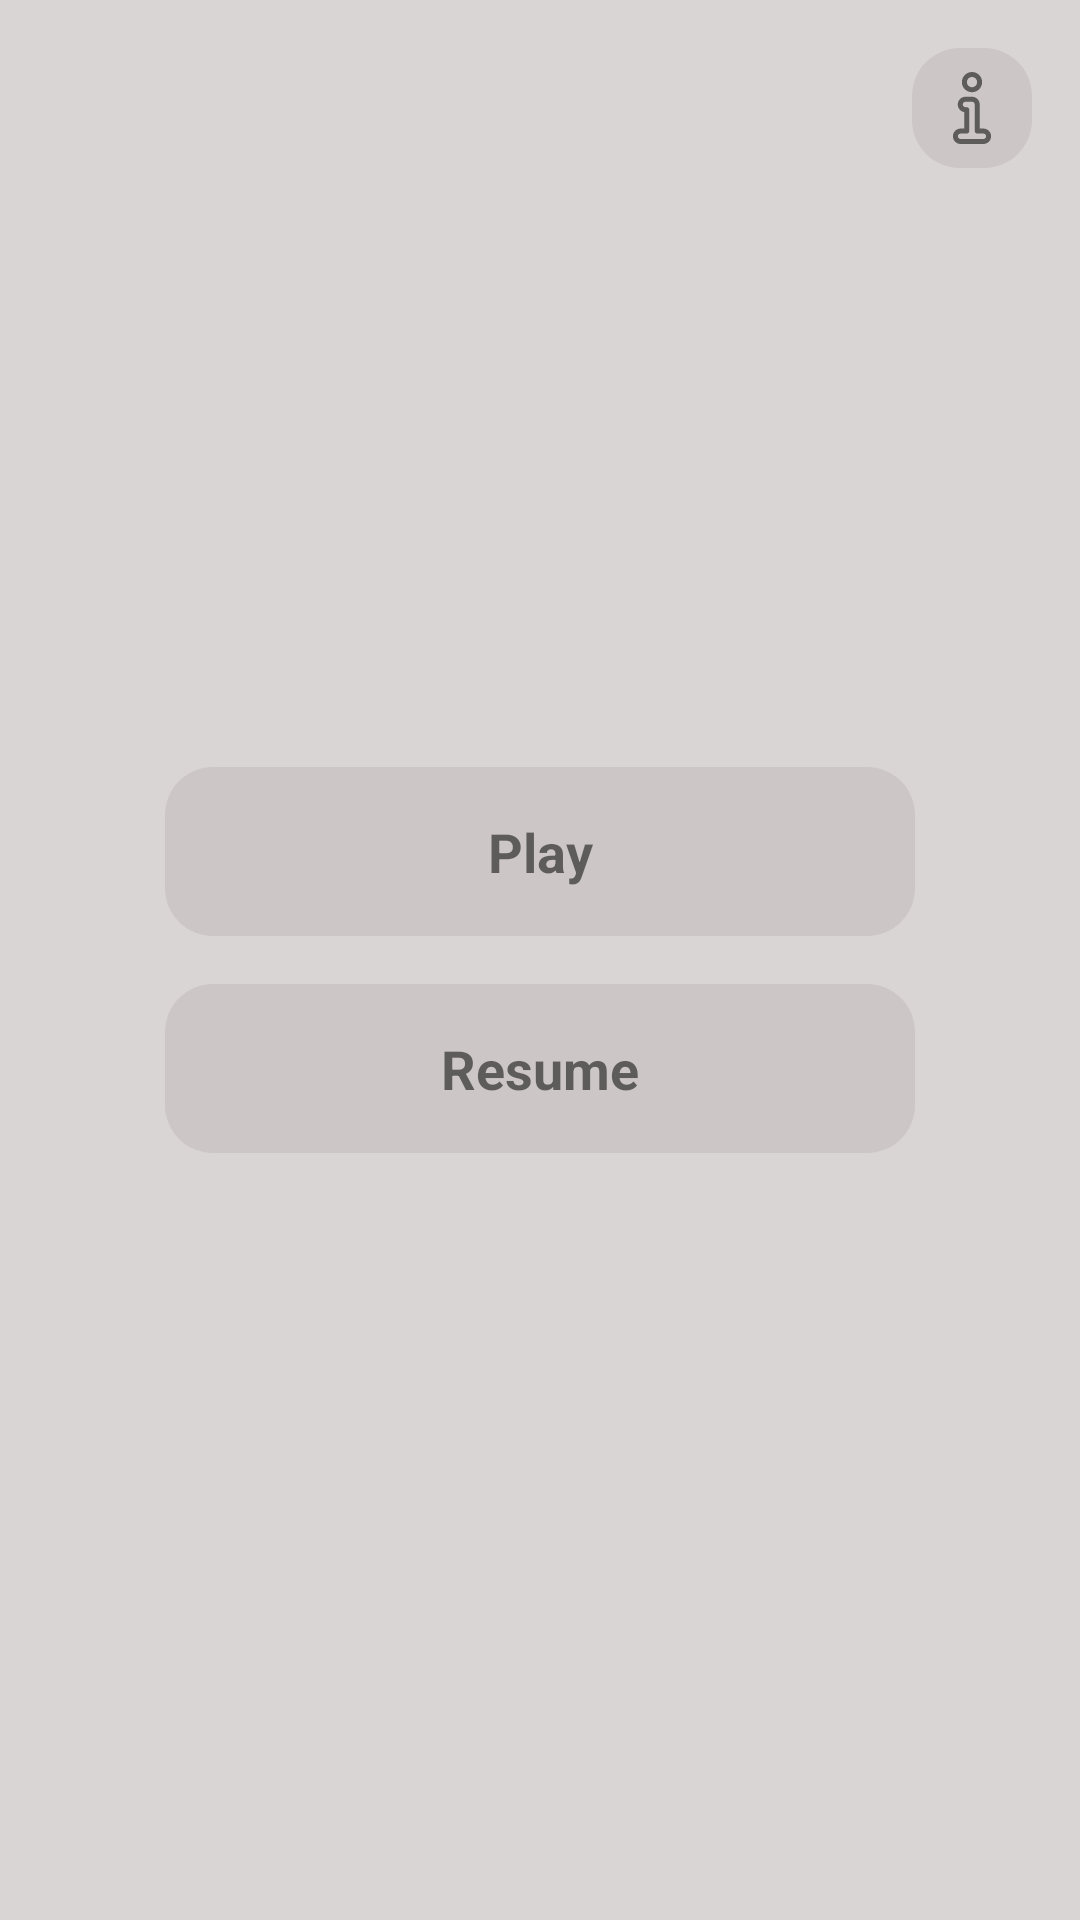

Named icons in this screenshot (1080 × 1920) and their centers, (x=x, y=y):
info: (x=972, y=108)
